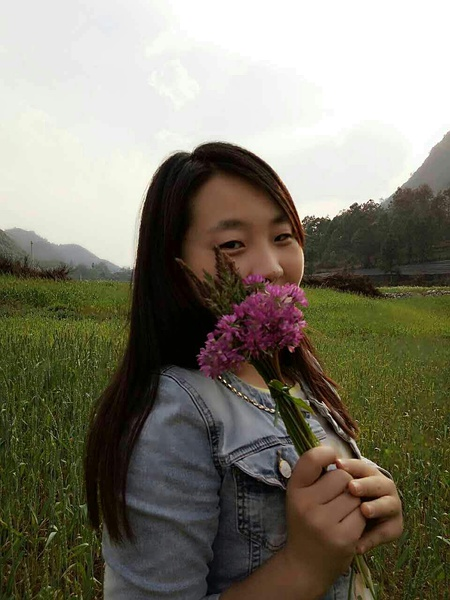face: (181, 167, 301, 349)
